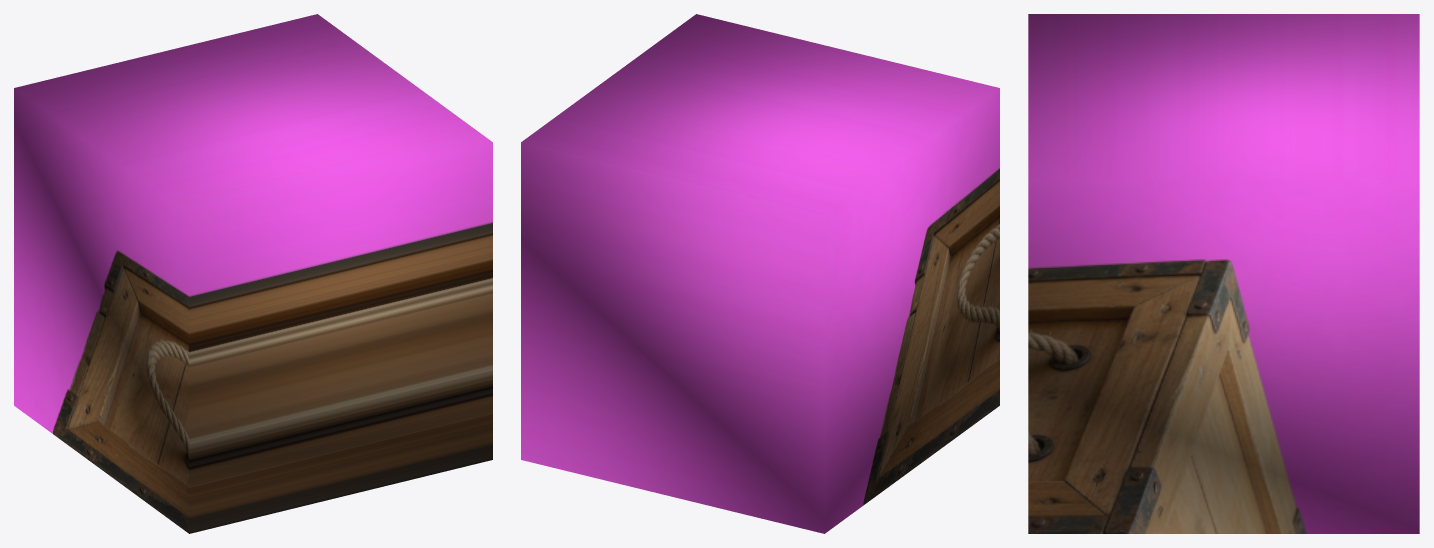
File: crate-ET_KUNiK.glb
3 views of the same model, side by side, from view 1: azimuth 30°, elevation 25°; view 2: azimuth 150°, elevation 25°; view 3: azimuth 270°, elevation 25° (orthographic). The views are drawn at different scales.
Visible parts, largest first — view 1: crate_body; view 2: crate_body; view 3: crate_body.
Boxes of the visible parts, <box> form: crate_body: <box>14,14,492,533</box>; crate_body: <box>521,14,999,533</box>; crate_body: <box>1028,14,1419,533</box>.
Size of the model in its own units: 0.9 by 0.9 by 0.9.
1 material, 1 textured.
